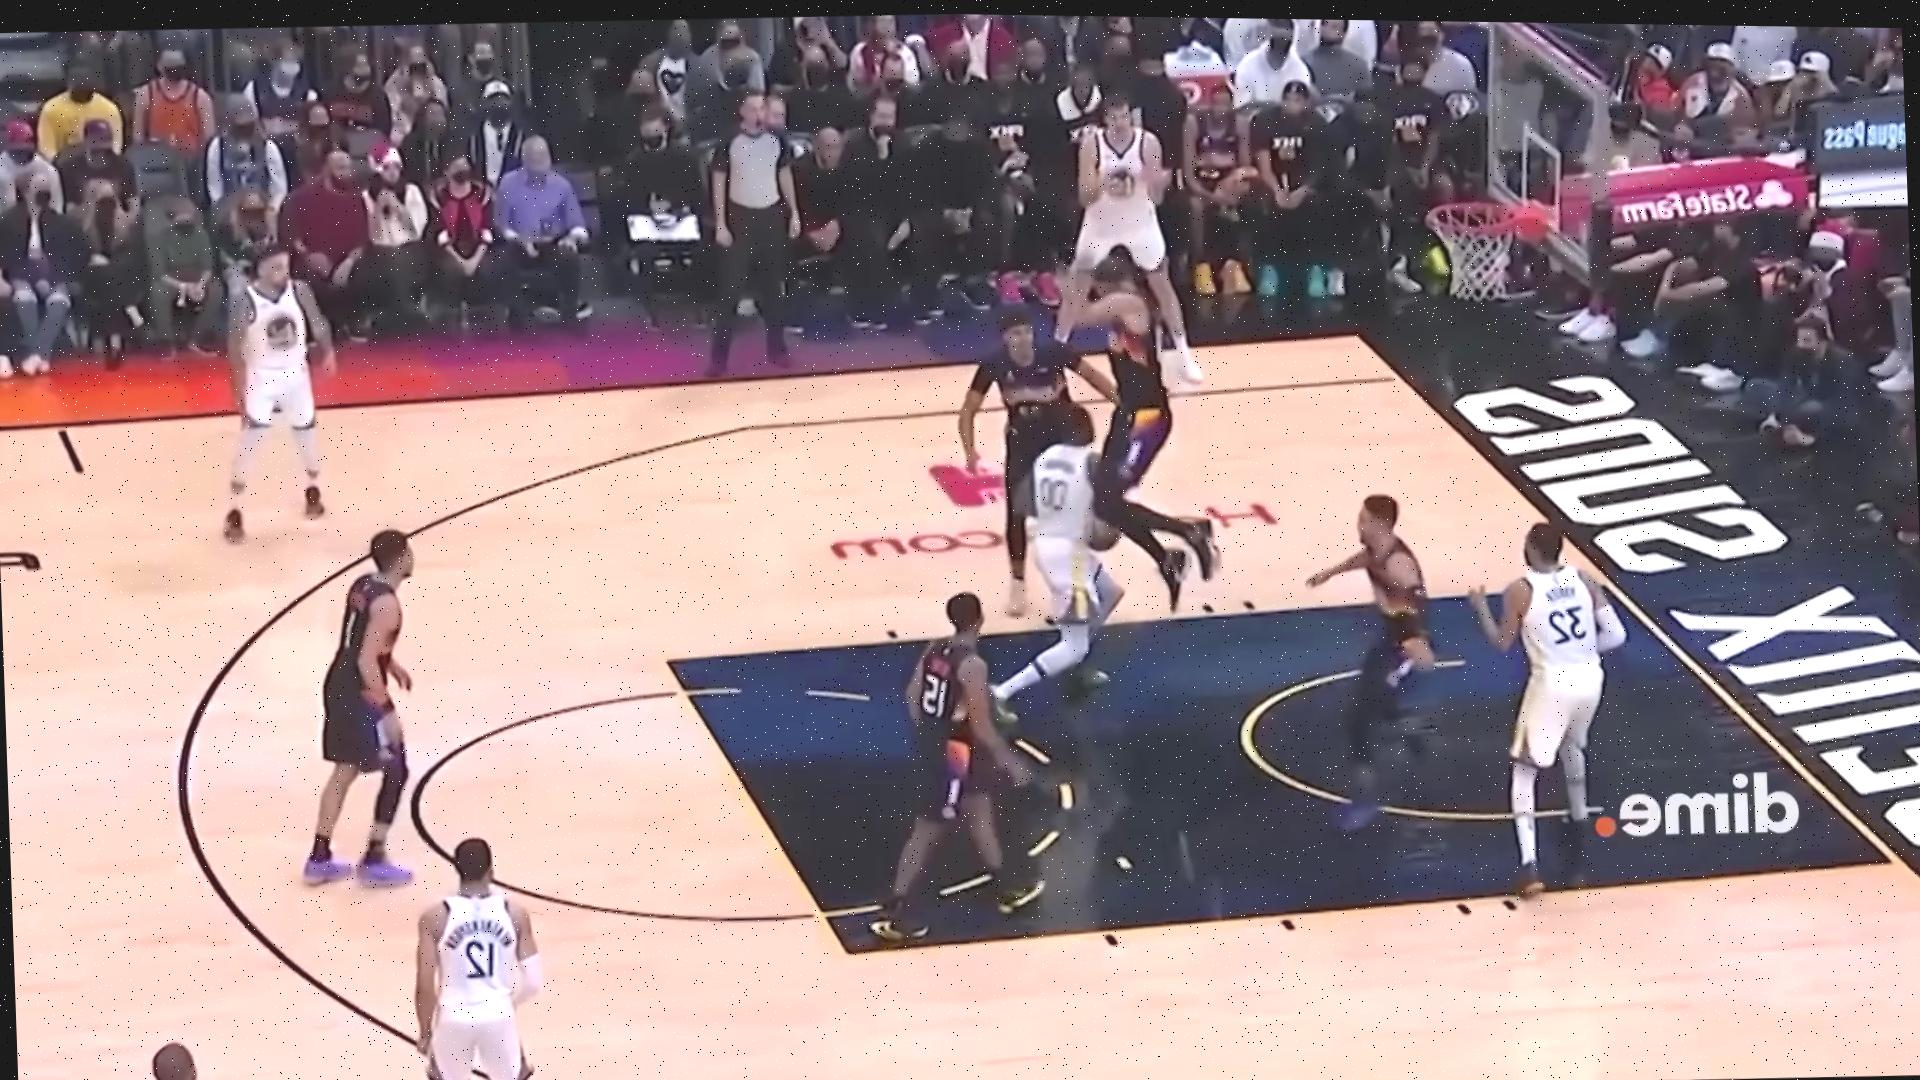foul: (992, 244, 1232, 717)
